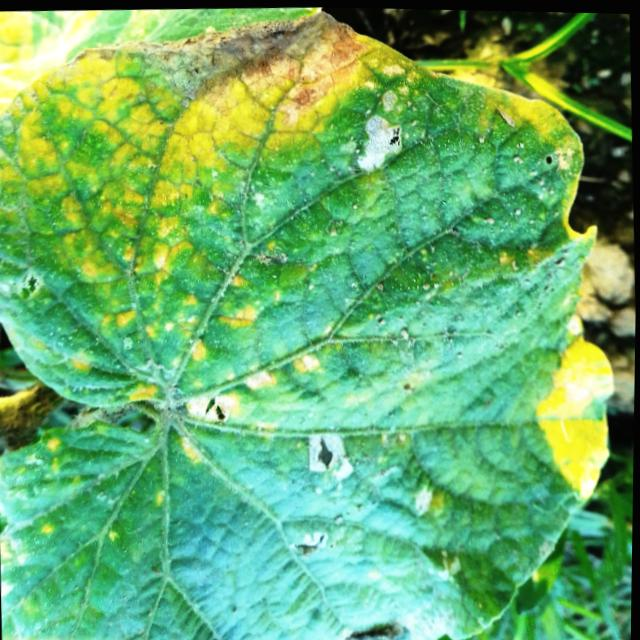Gummy-Stem-Blight: (71, 8, 369, 126)
